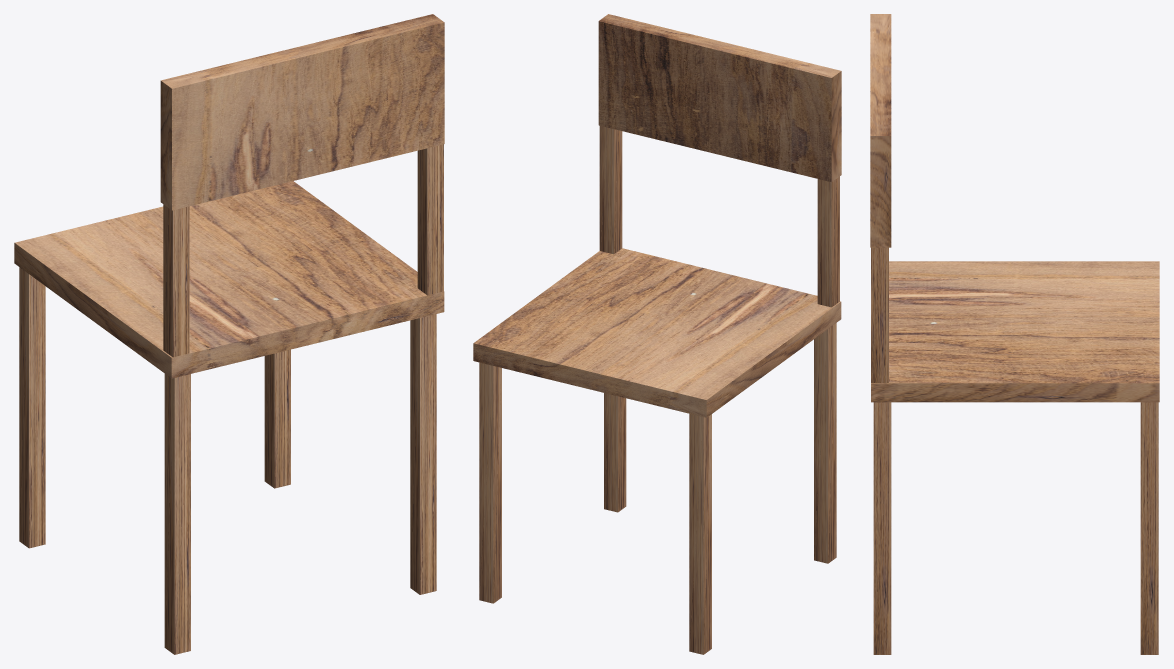
The model's file is chair.fbx.
3 views of the same model, side by side, from view 1: azimuth 30°, elevation 25°; view 2: azimuth 150°, elevation 25°; view 3: azimuth 270°, elevation 25° (orthographic). The views are drawn at different scales.
Parts seen in each view (by area): view 1: chair_bottom, chair_back, leg4, leg2, leg3, back1, back2, leg1; view 2: chair_bottom, chair_back, leg3, leg1, leg4, back2, back1, leg2; view 3: chair_bottom, chair_back, leg1, leg2, back2.
Boxes of the visible parts, x1,y1,x2,y2 form: chair_bottom: [14, 181, 444, 378]; chair_back: [160, 14, 444, 210]; leg4: [164, 374, 190, 654]; leg2: [410, 314, 436, 594]; leg3: [19, 267, 45, 548]; back1: [163, 204, 189, 357]; back2: [417, 144, 443, 295]; leg1: [264, 349, 290, 488]; chair_bottom: [473, 248, 841, 417]; chair_back: [598, 14, 841, 182]; leg3: [689, 413, 711, 654]; leg1: [479, 362, 501, 603]; leg4: [814, 323, 836, 563]; back2: [599, 126, 622, 254]; back1: [817, 176, 839, 307]; leg2: [604, 393, 626, 512]; chair_bottom: [871, 261, 1159, 402]; chair_back: [870, 14, 891, 247]; leg1: [1140, 402, 1158, 654]; leg2: [873, 402, 891, 654]; back2: [871, 247, 888, 382].
Size of the model in its own units: 1 by 1.99 by 1.
1 material, 1 textured.
